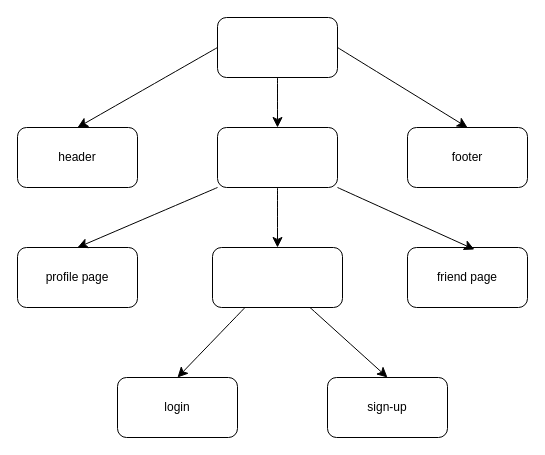
Image size: 545x455. Some labels were removed from this diagram. The centre of each missing label's shape, as x and y in pixels:
"App" goes at pixel 277 47.
"Home" goes at pixel 277 277.
"main" goes at pixel 277 157.
